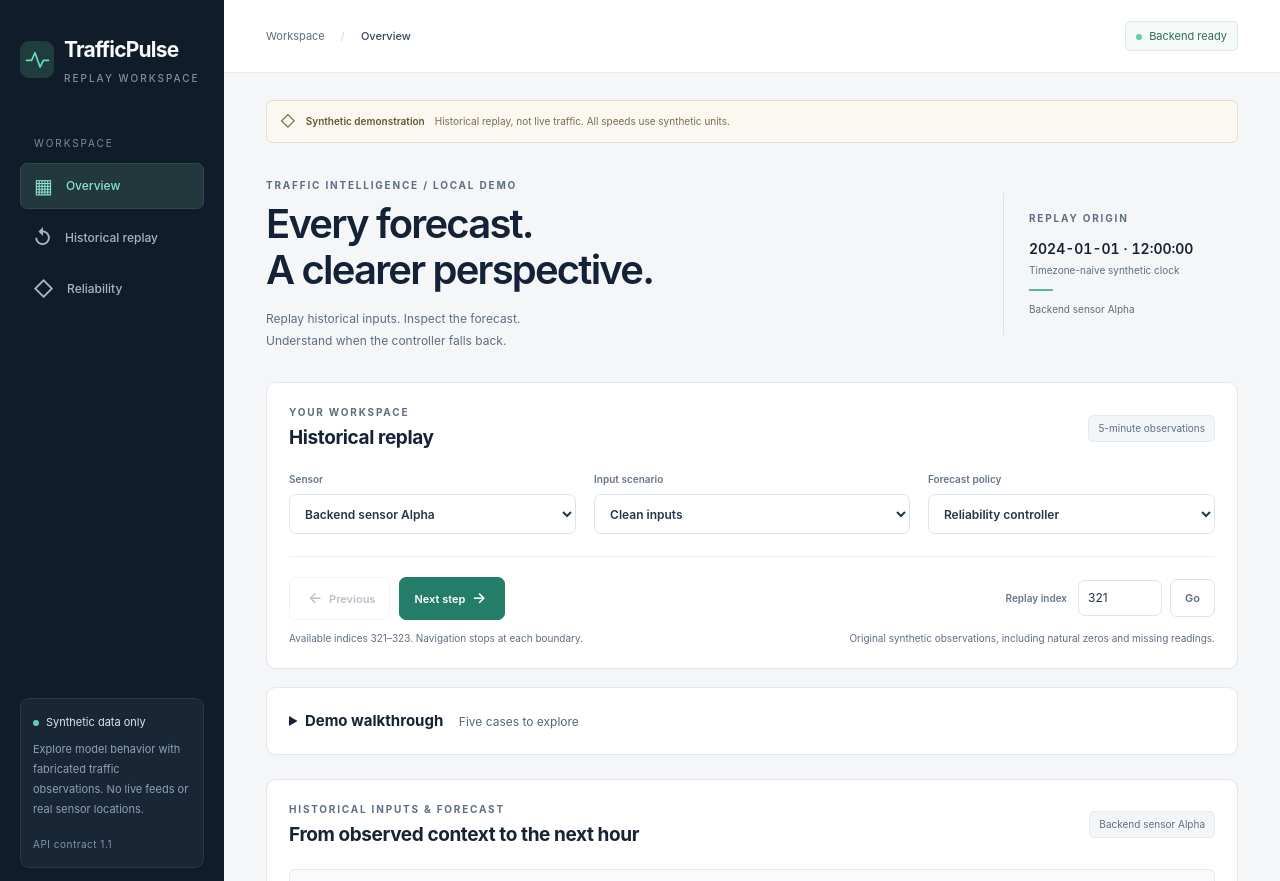
it: synthetic dashboard foundation › hides stale forecasts and ignores an older response after a newer selection
Select "Simulated noise" in the dropdown labelled "Input scenario". click: (752, 514)
box: [594,494,910,534]
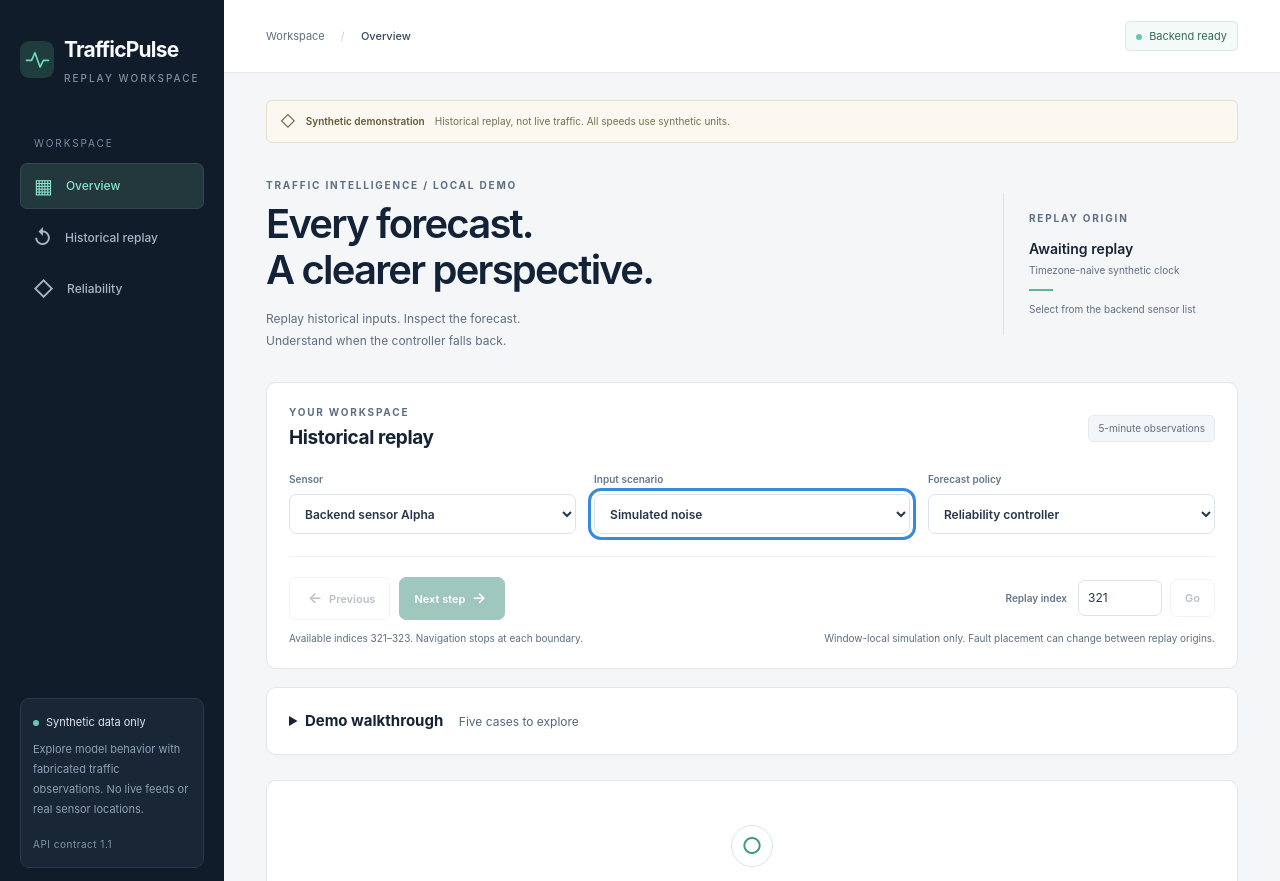
Select "Simulated stuck readings" in the dropdown labelled "Input scenario". click: (752, 514)
box: [594,494,910,534]
(page scrolled)
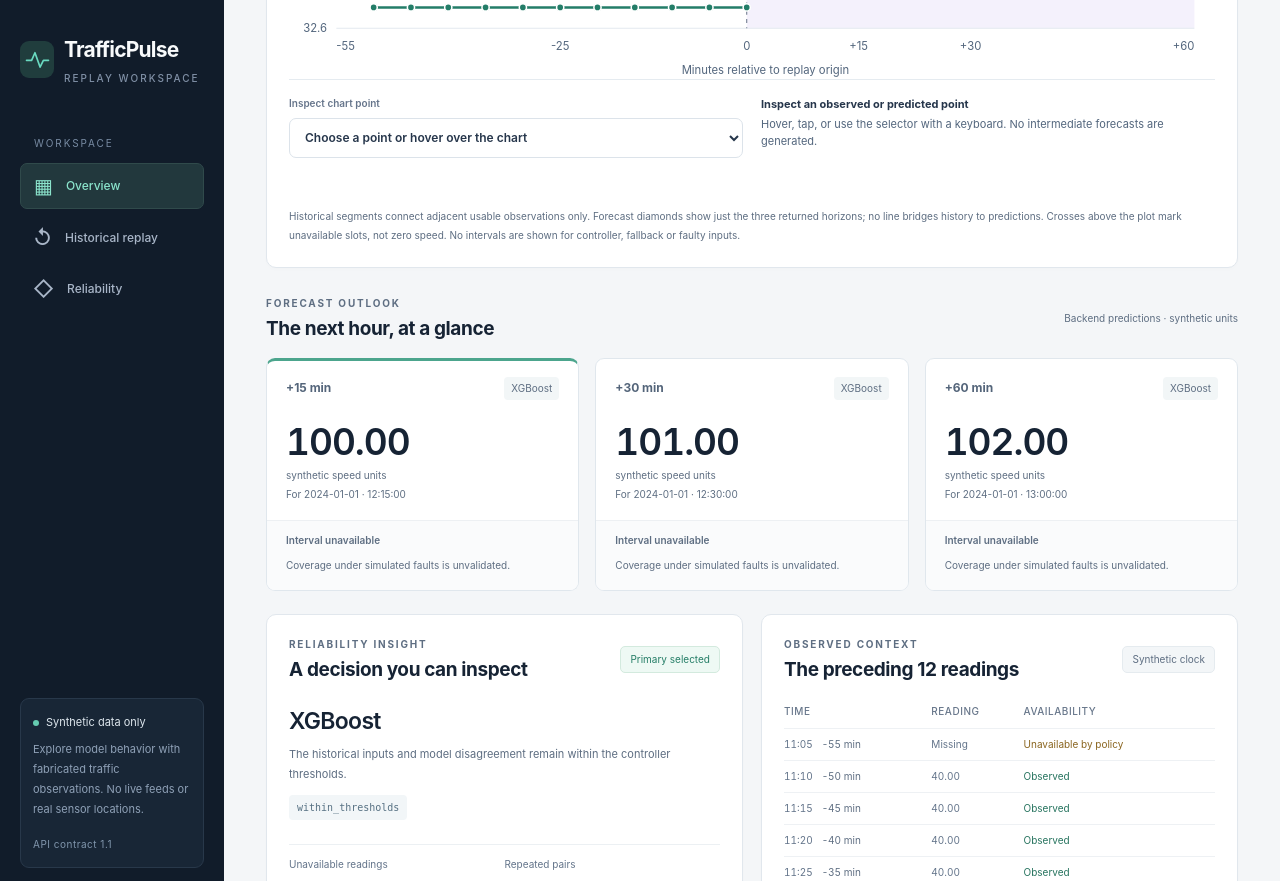
expect the text "100.00" is shown: met, box [286,418,410,464]
